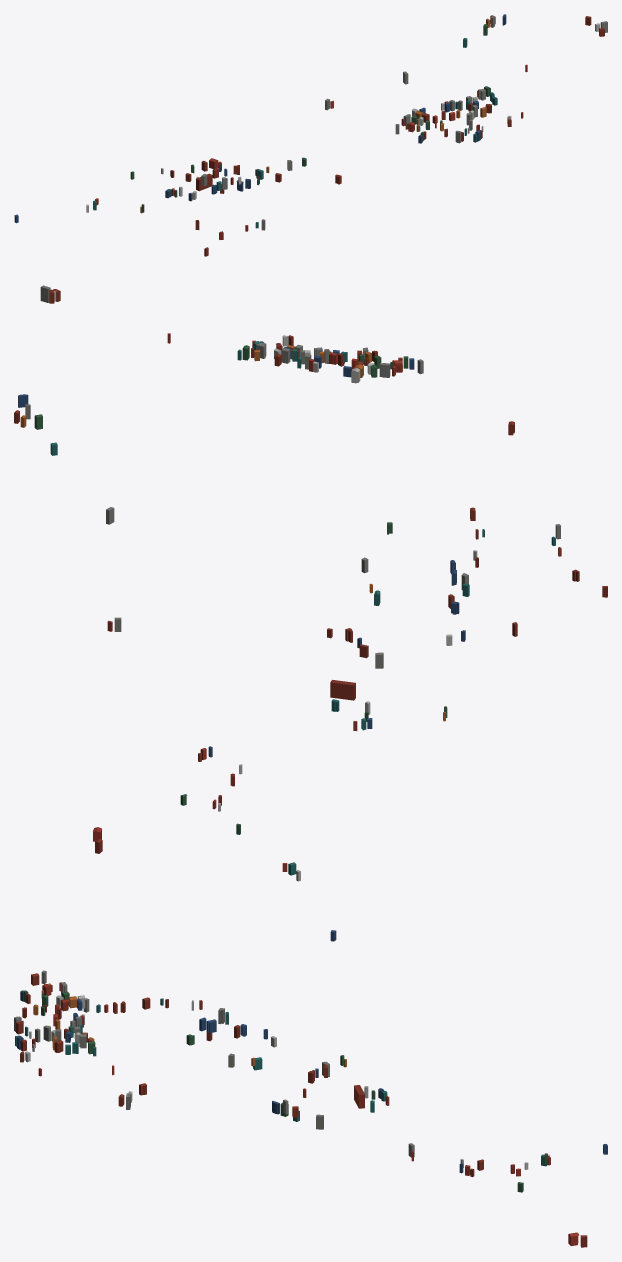
Rendered from near-15-27366-14860.39a3fc46.glb.
3 views of the same model, one above another, from view 1: azimuth 30°, elevation 25°; view 2: azimuth 150°, elevation 25°; view 3: azimuth 270°, elevation 25° (orthographic). The views are drawn at different scales.
Bounding box in the file's own units: 1068 × 613 × 1067.
